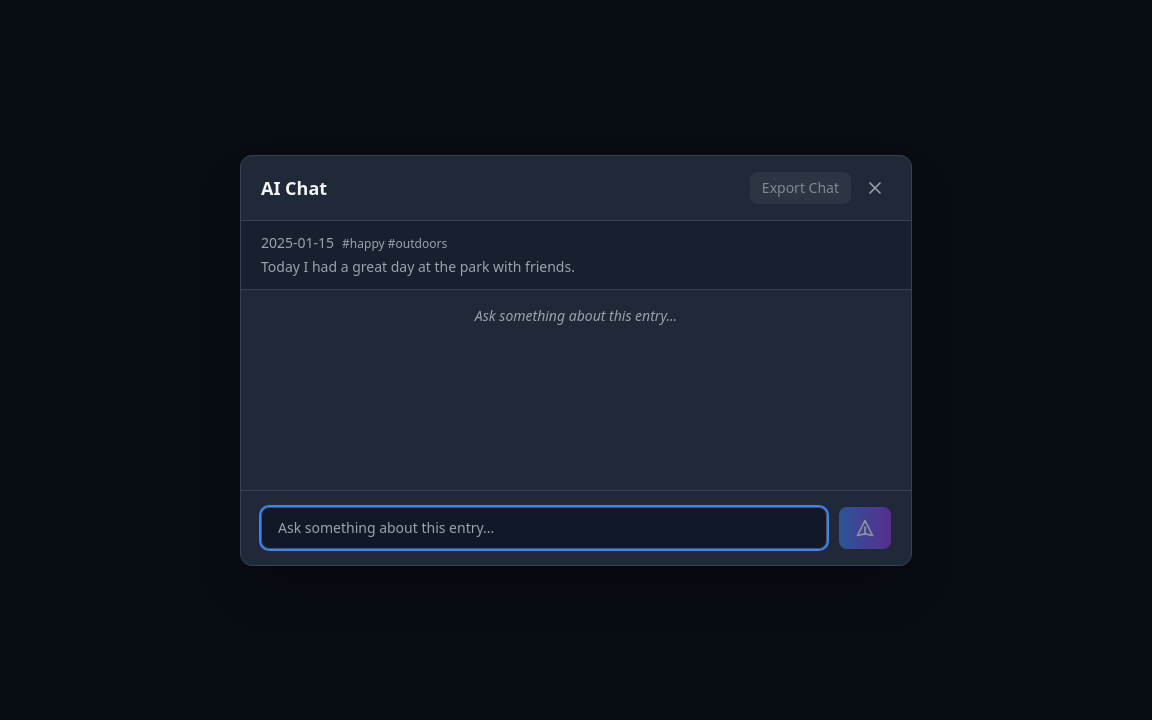
Test: AiChatModal › Interactions › displays user and AI messages after sending
In the text box with placeholder "Ask something about this entry...": (544, 528) [261, 506, 827, 548], type "Hello"
Then press Enter
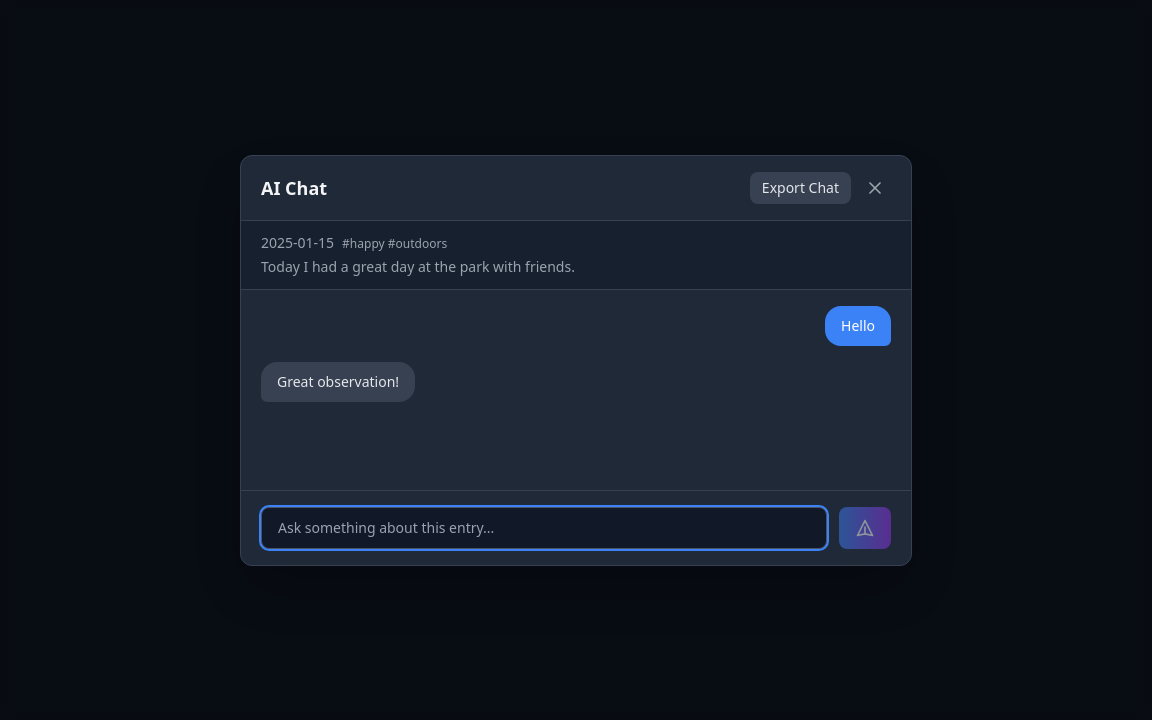
Expected: the text "Hello" is shown, [825, 306, 891, 346]
Expected: the text "Great observation!" is shown, [261, 362, 415, 402]
